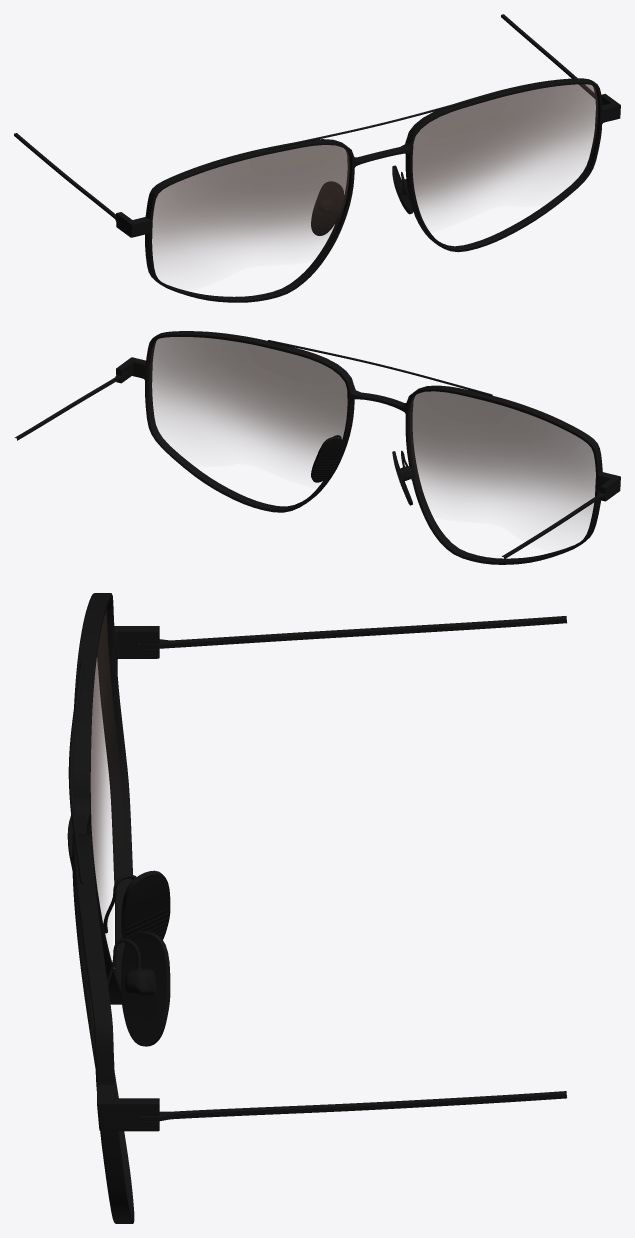
3 renders of one model, top to bottom at view 1: azimuth 30°, elevation 25°; view 2: azimuth 150°, elevation 25°; view 3: azimuth 270°, elevation 25°, orthographic. The views are drawn at different scales.
Parts seen in each view (by area): view 1: frame, temple_left, temple_right; view 2: frame, temple_right, temple_left; view 3: frame, temple_right, temple_left.
Boxes of the visible parts, x1,y1,x2,y2 form: frame: (116, 78, 620, 302); temple_left: (14, 133, 121, 225); temple_right: (501, 14, 604, 105); frame: (116, 331, 620, 564); temple_right: (14, 373, 126, 440); temple_left: (502, 491, 610, 559); frame: (67, 593, 170, 1223); temple_right: (139, 1091, 566, 1121); temple_left: (139, 616, 566, 648).
Size of the model in its own units: 14.54 by 4.53 by 6.42.
2 materials, 2 textured.
